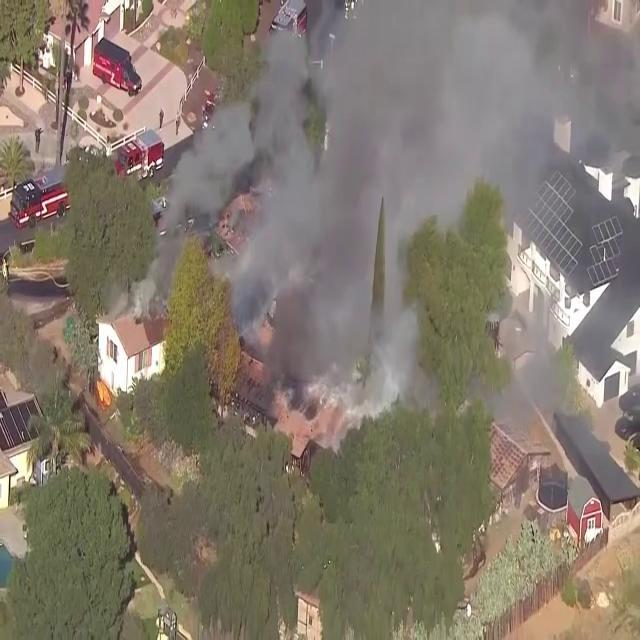Smoke: (167, 1, 468, 388)
